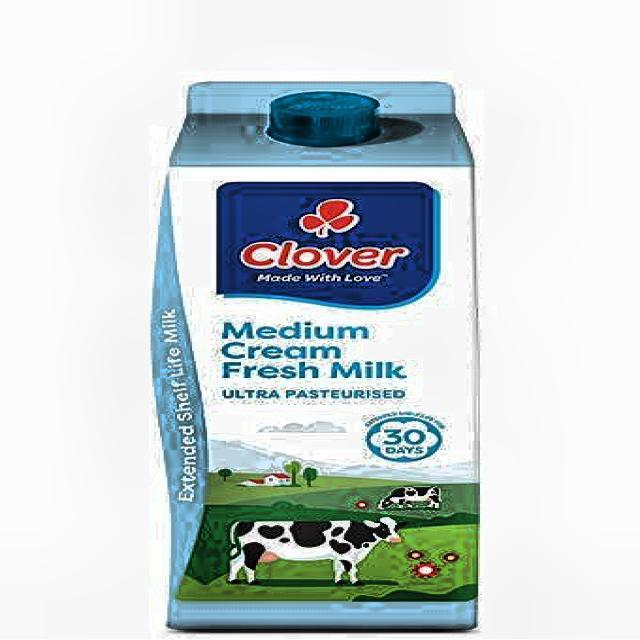cardboard: (148, 80, 480, 630)
